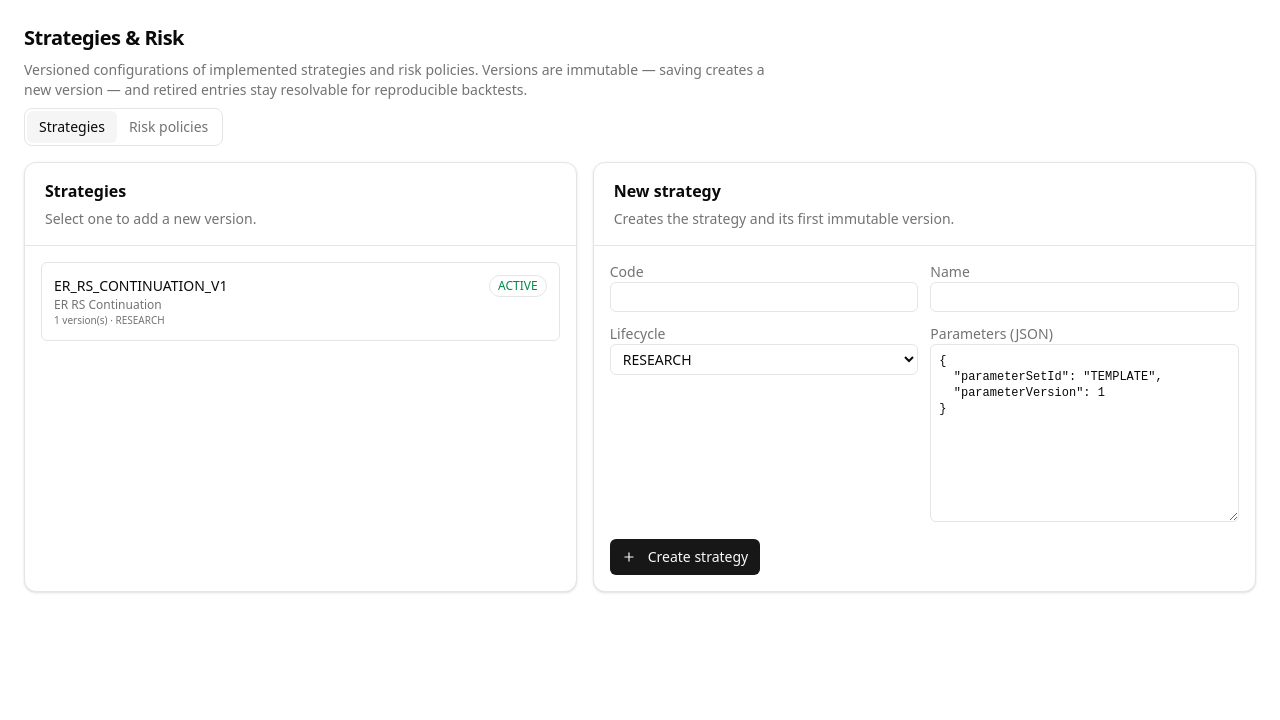
lists strategies with versions and switches to risk policies
The width and height of the screenshot is (1280, 720).
Check: the text "ER_RS_CONTINUATION_V1" is shown, box [54,276,227,296]
Check: the text "1 version(s) · RESEARCH" is shown, box [54,313,165,327]
Click the tab "Risk policies": (169, 127) [117,111,220,143]
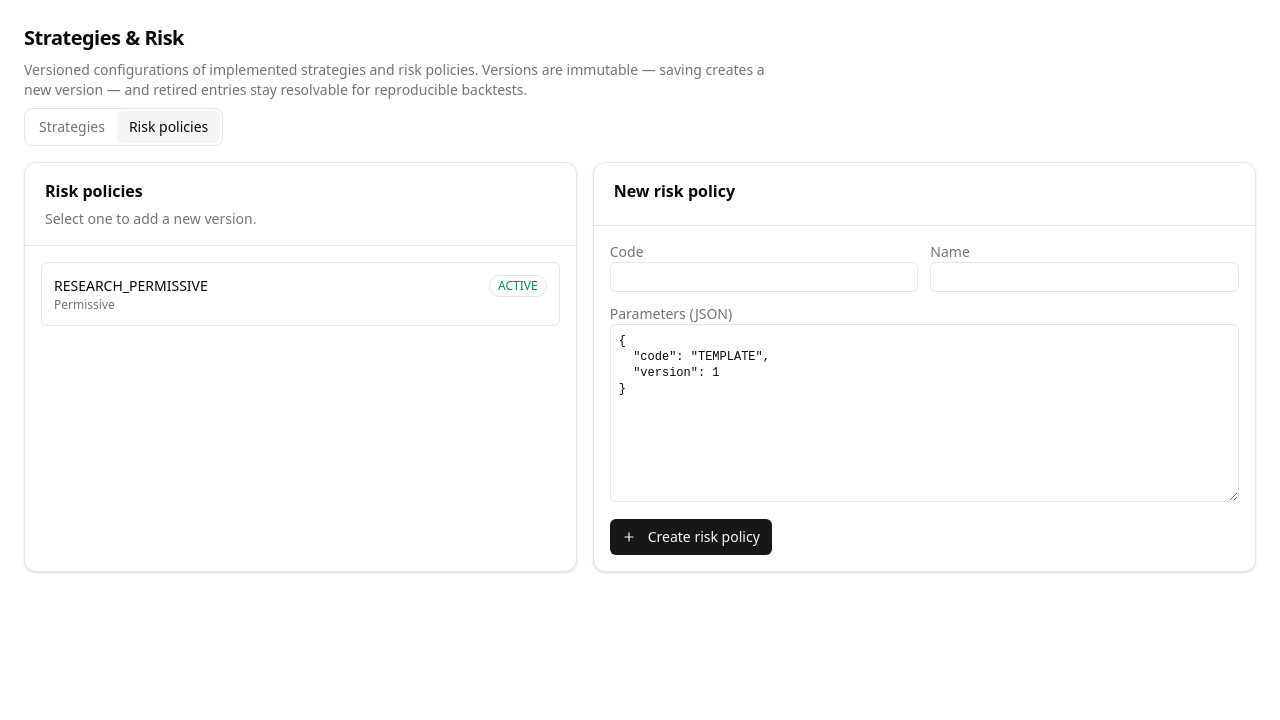
Check: the text "RESEARCH_PERMISSIVE" is shown, box [54,276,208,296]
